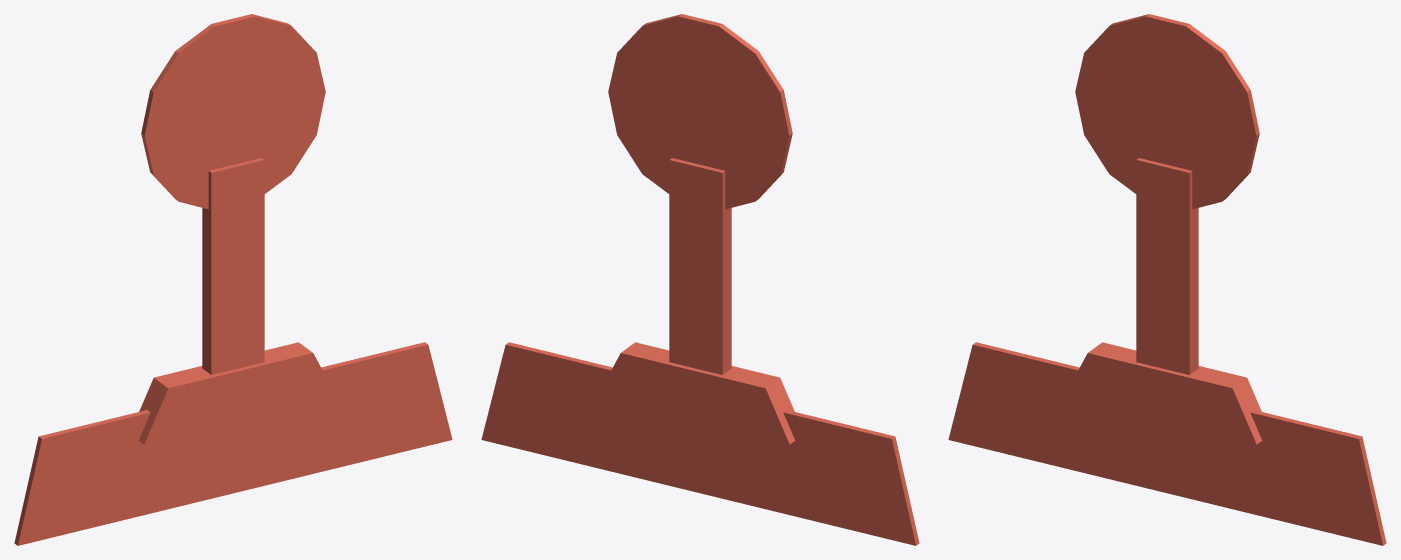
Rendered from icon_arcade.glb.
3 views of the same model, side by side, from view 1: azimuth 30°, elevation 25°; view 2: azimuth 150°, elevation 25°; view 3: azimuth 330°, elevation 25° (orthographic).
Visible parts, largest first — view 1: icon_arcade; view 2: icon_arcade; view 3: icon_arcade.
Boxes of the visible parts, box(x1,y1,x2,y2) form: icon_arcade: box(14, 14, 452, 545); icon_arcade: box(481, 14, 919, 545); icon_arcade: box(948, 14, 1386, 545).
Bounding box in the file's own units: 0.36 × 0.3731 × 0.021.
